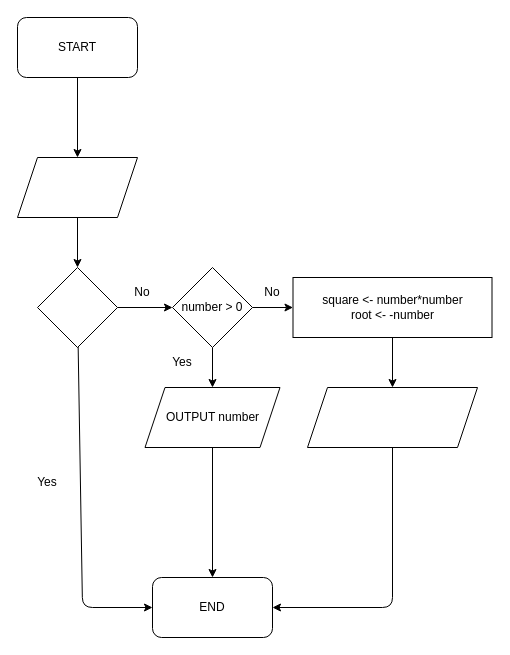
This 510x655 diagram has some shape labels left out. Here are the shapes that lost their labels. From the top down, the centre of each, then its label:
pixel 77 187: INPUT number
pixel 77 307: number == 0
pixel 392 417: OUTPUT square, root
